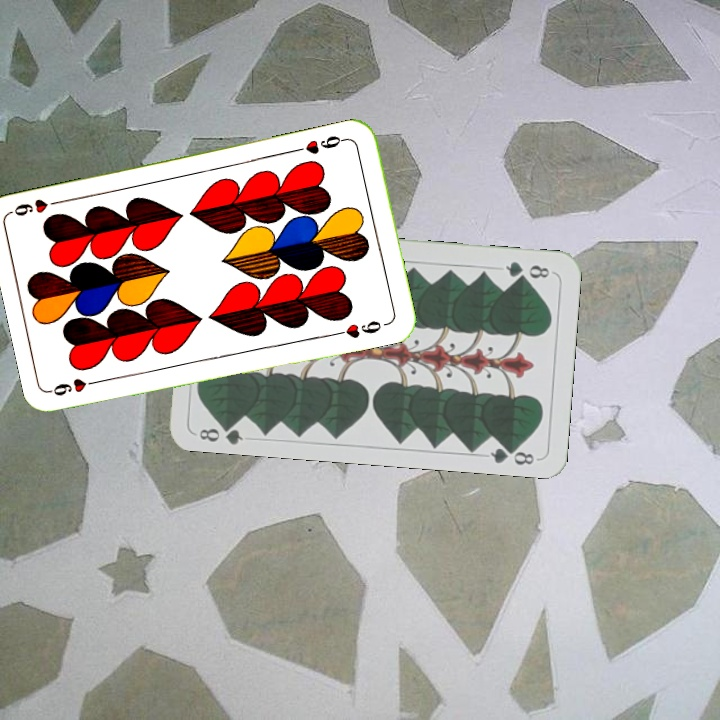G8: (195, 417, 245, 446), (501, 257, 555, 282)
H9: (292, 131, 351, 157), (48, 375, 106, 399)
